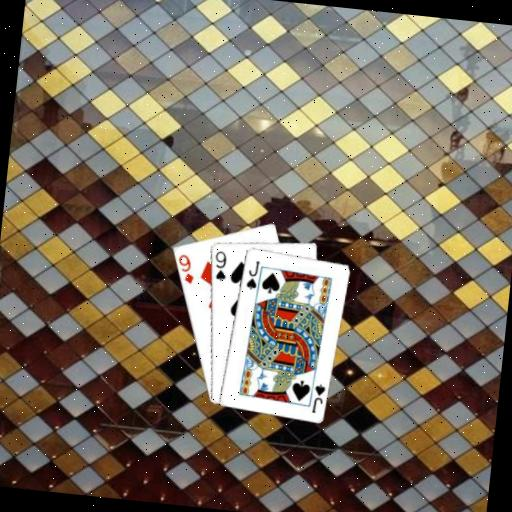9D: (173, 250, 198, 285)
9S: (210, 247, 230, 283)
JS: (243, 256, 261, 291), (308, 381, 326, 415)
